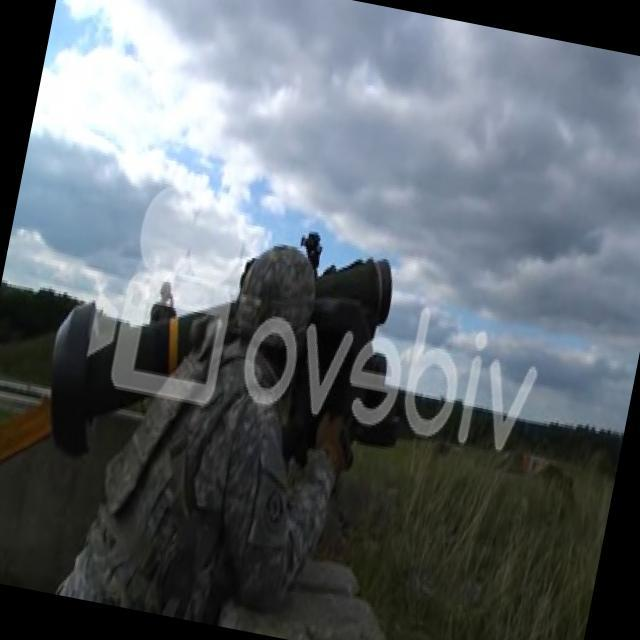rocket: (34, 274, 240, 480)
